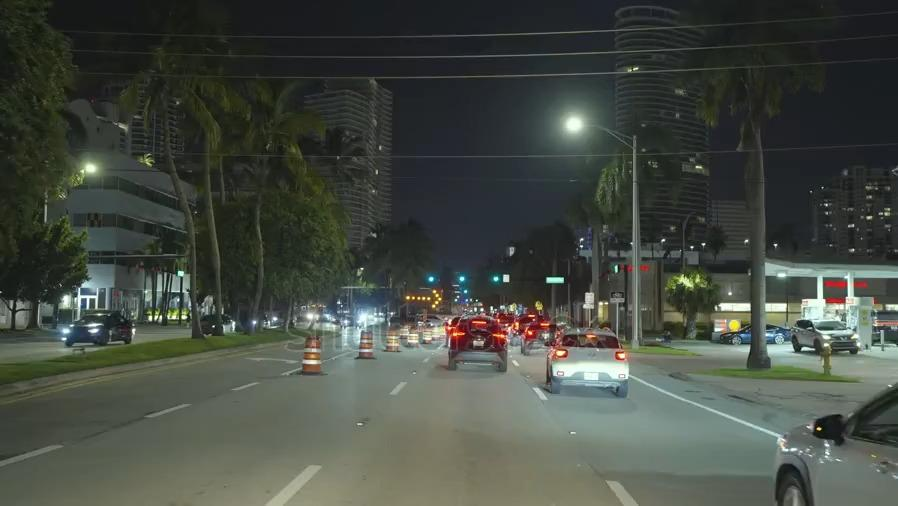arrow traffic sign: (401, 285, 446, 312)
car: (772, 379, 898, 506), (545, 327, 627, 398), (445, 314, 509, 371), (791, 315, 859, 355), (59, 309, 139, 343), (718, 319, 790, 347), (193, 309, 231, 333)
cone: (300, 332, 325, 375), (356, 329, 377, 359), (384, 326, 399, 355), (407, 324, 418, 349)
wheel: (773, 465, 808, 506)
